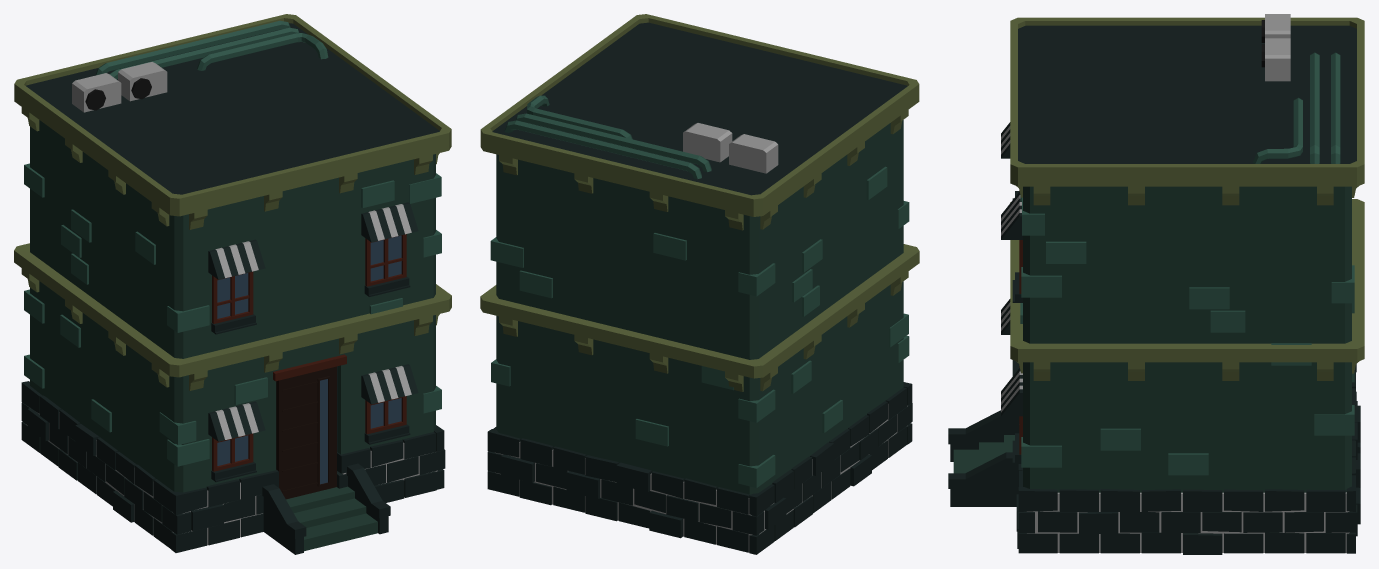
File: bld_2Story_Mat.glb
The picture shows the model from 3 angles, left to right: view 1: azimuth 30°, elevation 25°; view 2: azimuth 150°, elevation 25°; view 3: azimuth 270°, elevation 25°; orthographic projection. The views are drawn at different scales.
Parts seen in each view (by area): view 1: 2Story_Mat; view 2: 2Story_Mat; view 3: 2Story_Mat.
Boxes of the visible parts, x1,y1,x2,y2 form: 2Story_Mat: (14,14,451,554); 2Story_Mat: (480,14,919,554); 2Story_Mat: (948,14,1364,554).
Size of the model in its own units: 216 by 275 by 253.
